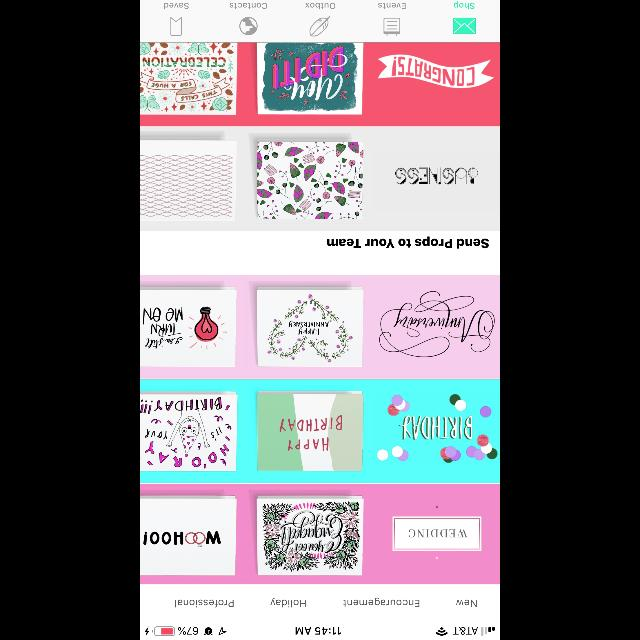icon: (452, 18, 476, 34), (382, 18, 400, 36), (170, 16, 182, 36)
image: (256, 139, 364, 219), (256, 287, 364, 367), (256, 391, 364, 471), (256, 495, 364, 575), (377, 393, 497, 462), (140, 137, 236, 221), (140, 391, 238, 471), (380, 290, 494, 358), (140, 286, 236, 366), (257, 43, 363, 115), (140, 496, 236, 574), (140, 43, 238, 115), (378, 54, 494, 88), (393, 516, 481, 550), (396, 168, 478, 185), (310, 16, 330, 36), (240, 17, 258, 35)
text: (327, 237, 489, 249), (343, 597, 419, 607), (175, 599, 233, 607), (270, 597, 306, 607), (230, 3, 266, 9), (164, 2, 188, 10), (305, 3, 335, 9), (378, 3, 406, 9), (454, 1, 474, 9), (456, 599, 476, 607)
uppertaskbar: (140, 626, 500, 640)
